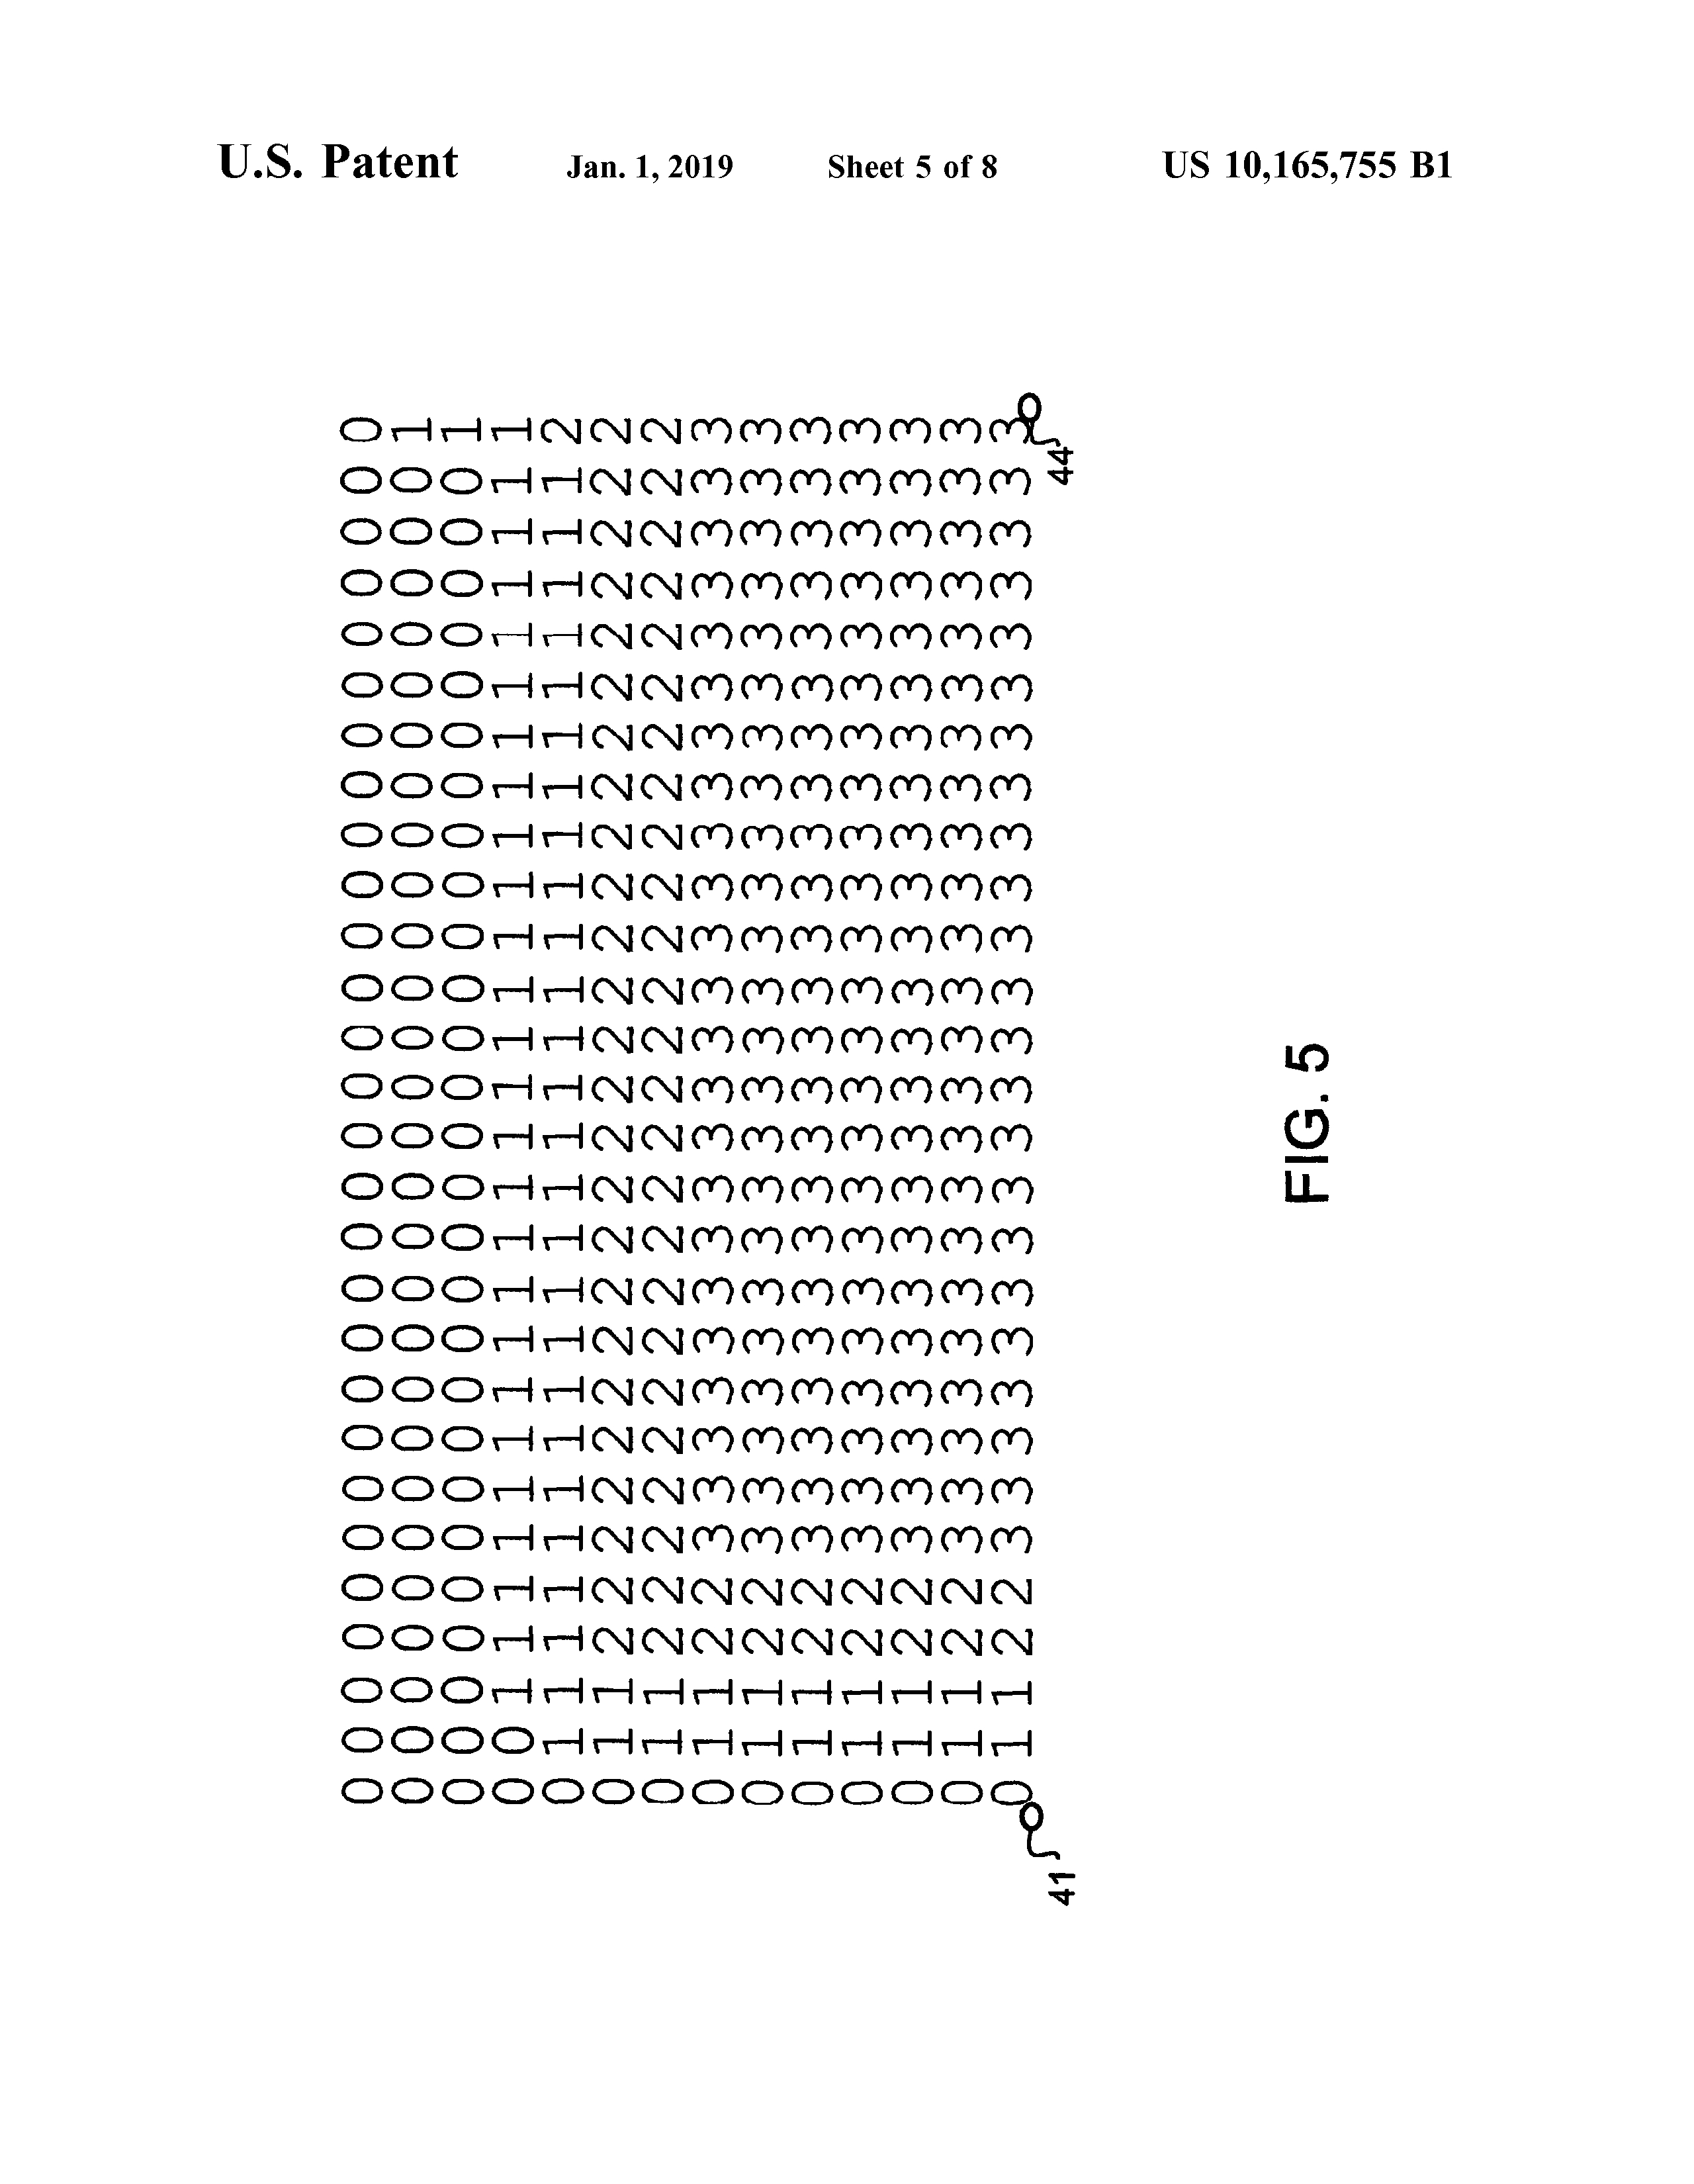patent image: (294, 339, 1378, 1955)
